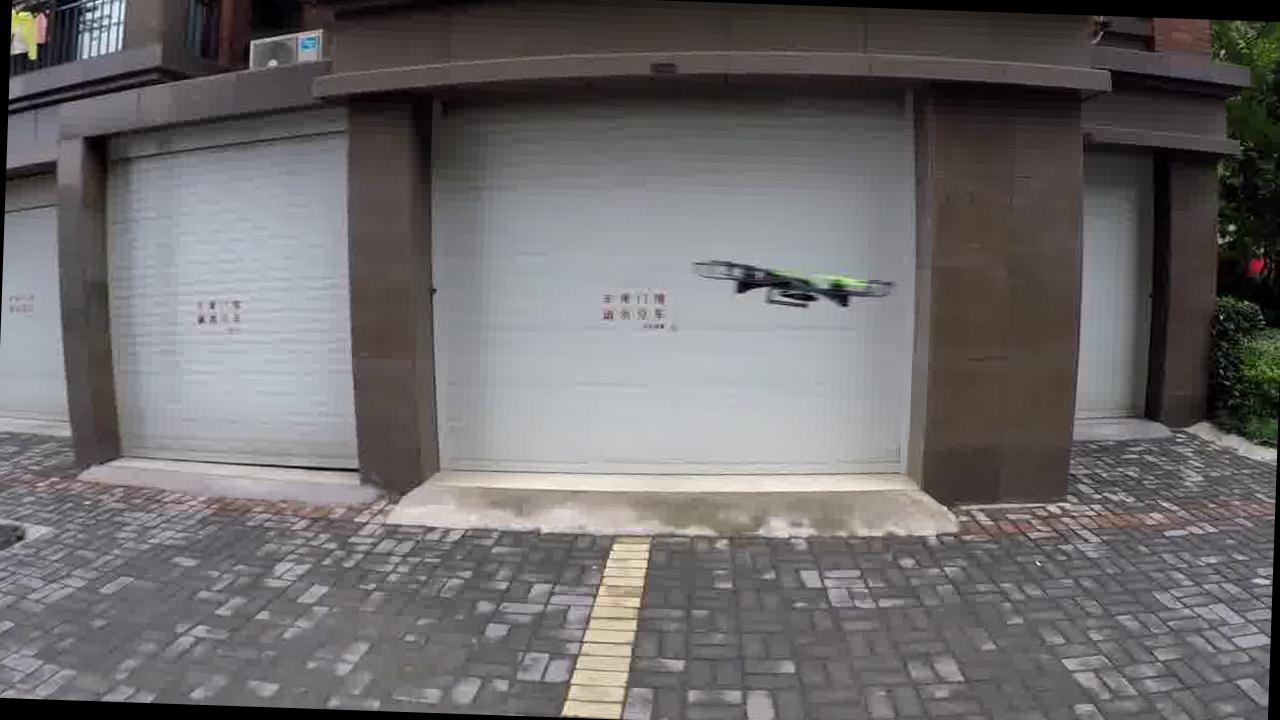drone: (688, 256, 914, 312)
